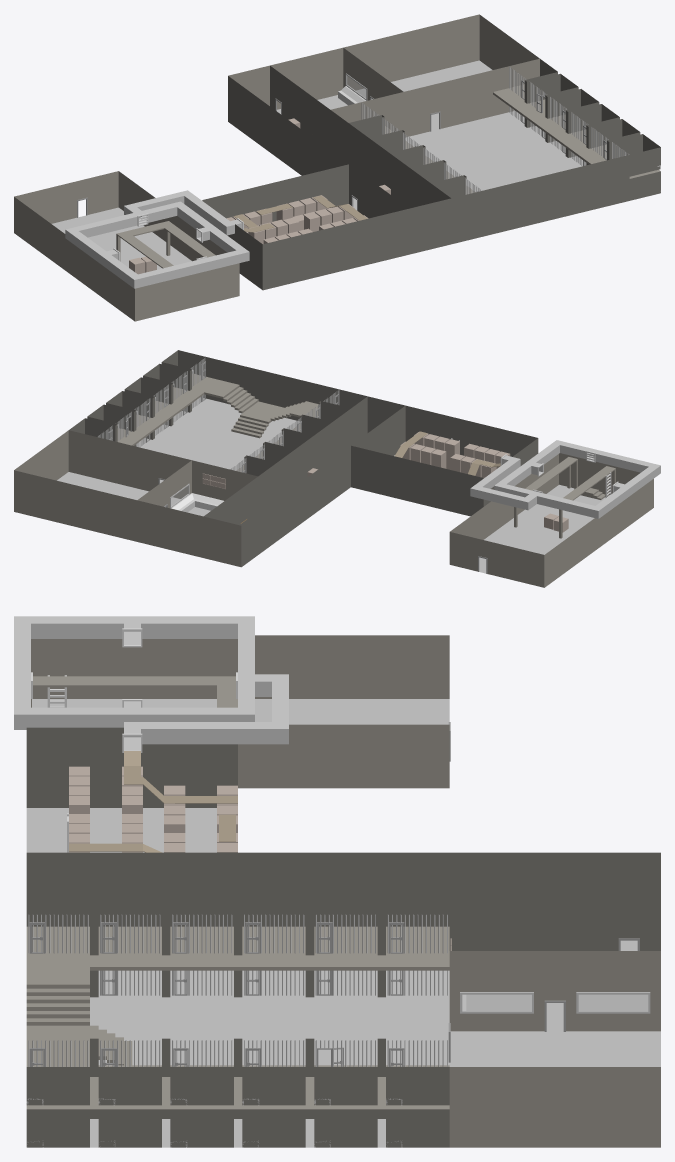
Rendered from Room_00.fbx.
The picture shows the model from 3 angles, top to bottom: view 1: azimuth 30°, elevation 25°; view 2: azimuth 150°, elevation 25°; view 3: azimuth 270°, elevation 25°; orthographic projection. The views are drawn at different scales.
Parts seen in each view (by area): view 1: Wall_Storage, Wall_Hallway, Wall_Exit, Wall_Experiment, Floor_5, Wall_Cell_Entrance, Duct, Cell_Block_2, Cell_Block_4, Stairs_2_Cont_3, Floor_1, Floor_4 (+6 smaller); view 2: Wall_Storage, Wall_Hallway, Wall_Experiment, Wall_Exit, Wall_Cell_Entrance, Duct, Floor_5, Cell_Block_2, Floor_1, Cell_Block_4, Stairs_2_Cont_3, Floor_4 (+11 smaller); view 3: Wall_Hallway, Wall_Exit, Floor_5, Duct, Wall_Experiment, Cell_Block_2, Stairs_2_Cont_2, Cell_Block_1, Wall_Control_Room, Wall_Storage, Floor_4, Floor_1 (+21 smaller).
Boxes of the visible parts, <box> form: Wall_Storage: <box>202,155,629,290</box>; Wall_Hallway: <box>228,66,450,218</box>; Wall_Exit: <box>14,171,239,321</box>; Wall_Experiment: <box>228,14,539,109</box>; Floor_5: <box>405,111,586,191</box>; Wall_Cell_Entrance: <box>330,58,539,137</box>; Duct: <box>65,190,249,288</box>; Cell_Block_2: <box>524,59,660,176</box>; Cell_Block_4: <box>349,115,482,218</box>; Stairs_2_Cont_3: <box>493,84,660,178</box>; Floor_1: <box>52,207,191,269</box>; Floor_4: <box>277,60,492,130</box>; Wall_Storage: <box>206,357,538,516</box>; Wall_Hallway: <box>204,396,405,566</box>; Wall_Experiment: <box>14,430,241,566</box>; Wall_Exit: <box>449,453,653,587</box>; Wall_Cell_Entrance: <box>68,430,257,500</box>; Duct: <box>470,440,660,518</box>; Floor_5: <box>136,397,299,483</box>; Cell_Block_2: <box>69,350,206,441</box>; Floor_1: <box>479,484,605,573</box>; Cell_Block_4: <box>244,391,366,476</box>; Stairs_2_Cont_3: <box>117,374,220,445</box>; Floor_4: <box>57,472,210,516</box>; Wall_Hallway: <box>26,852,660,950</box>; Wall_Exit: <box>31,635,450,788</box>; Floor_5: <box>90,970,449,1147</box>; Duct: <box>14,616,288,750</box>; Wall_Experiment: <box>449,1067,660,1147</box>; Cell_Block_2: <box>26,1038,449,1105</box>; Stairs_2_Cont_2: <box>26,926,449,970</box>; Cell_Block_1: <box>26,1109,449,1147</box>; Wall_Control_Room: <box>449,951,660,1031</box>; Wall_Storage: <box>26,727,237,807</box>; Floor_4: <box>449,994,660,1066</box>; Floor_1: <box>32,699,449,724</box>.
Size of the model in its own units: 506 by 42.4 by 306.
